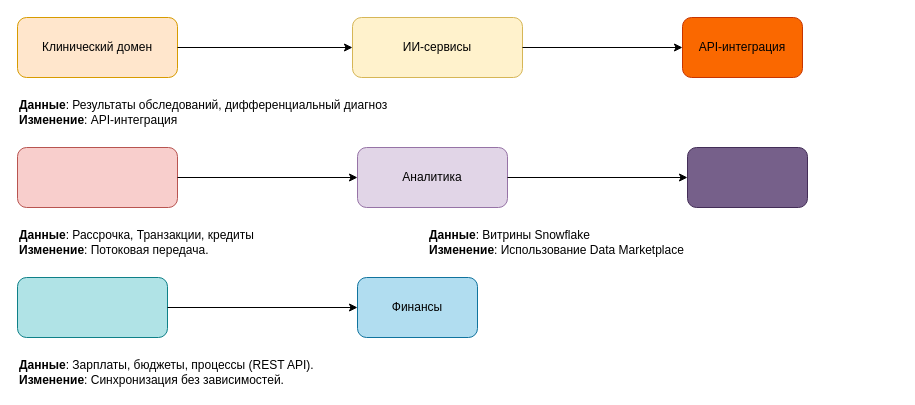
Image size: 915x405. Some labels were removed from this diagram. The shapes that lost their labels are listed below. From the top down, each one's box as (x1, y1, x2, y2) in pixels, then its label:
(16, 146, 178, 208): Финансовый домен
(686, 146, 808, 208): BI-портал
(16, 276, 168, 338): Операционный домен
